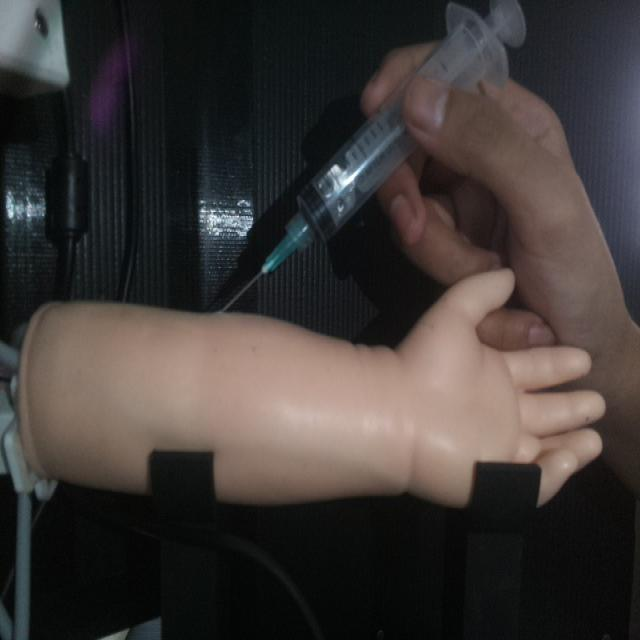Above 30 degrees: (216, 0, 532, 320)
